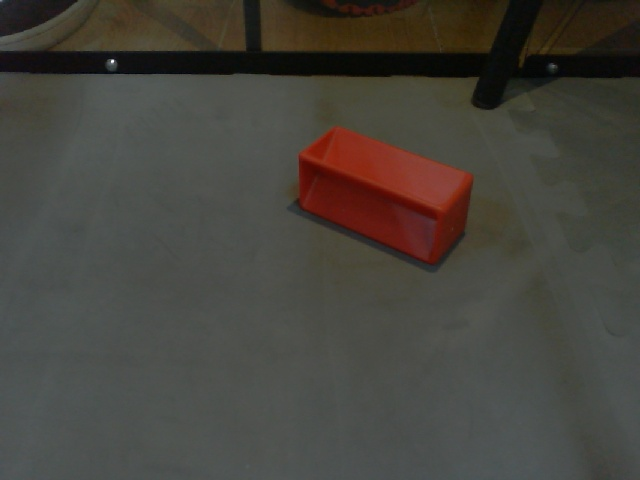RedSample: (292, 122, 477, 271)
